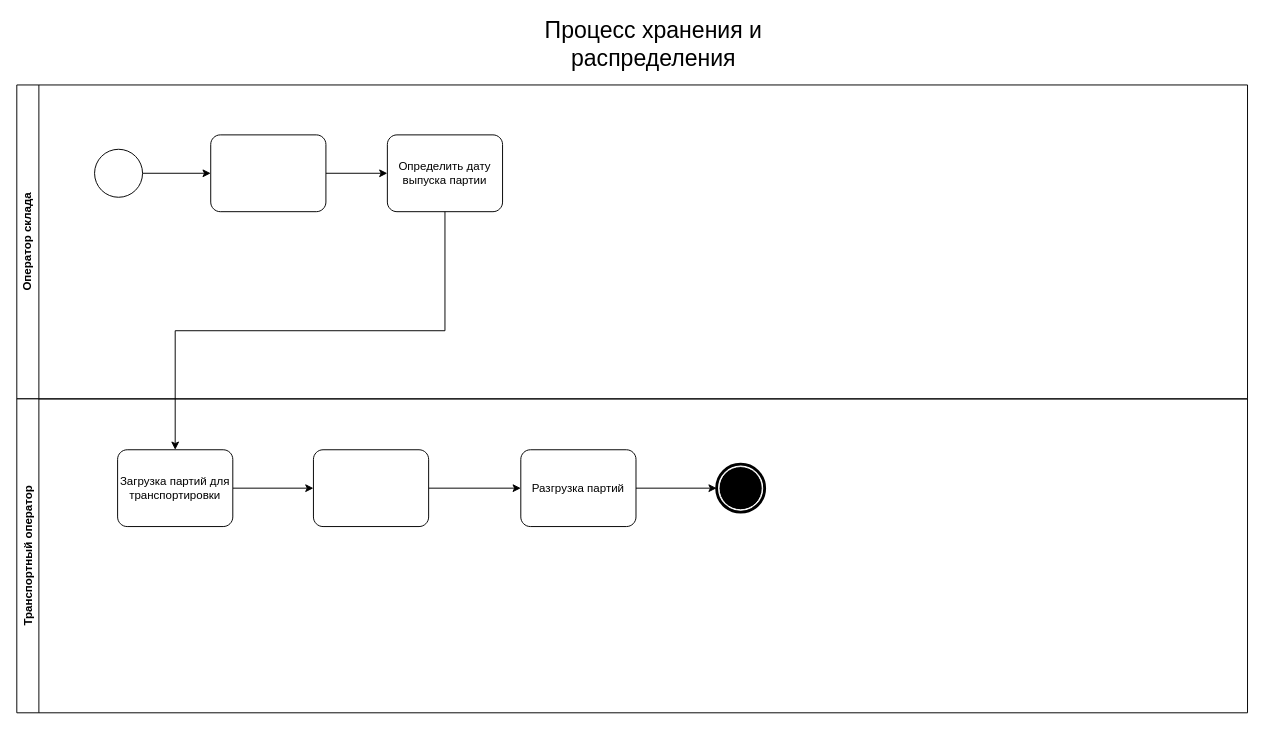
This 1264x730 diagram has some shape labels left out. Each missing label, with the centre of its shape:
"Сортировка грузов на более мелкие партии" belongs at (x=268, y=173).
"Транспортировка партий для дилерского центра" belongs at (x=370, y=488).
